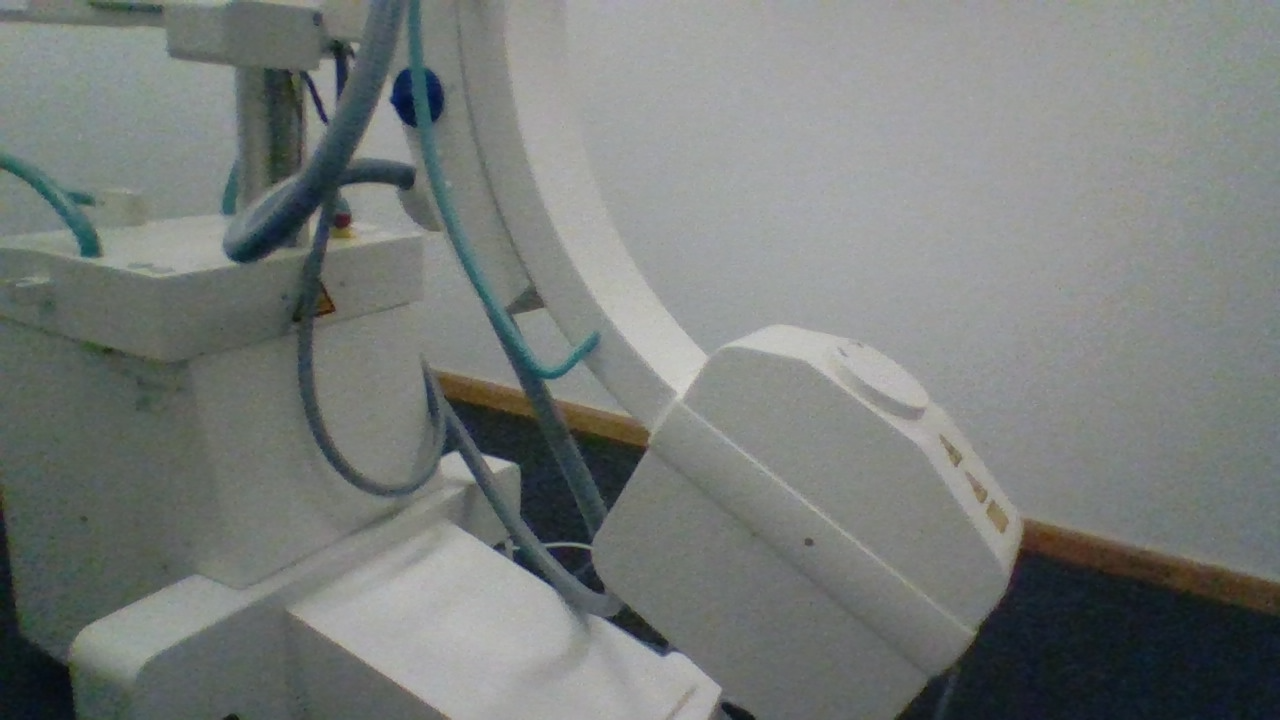carmBACK: (45, 181, 146, 229)
carmDOWN: (678, 319, 1029, 637)
carmLOCK: (387, 65, 445, 128)
